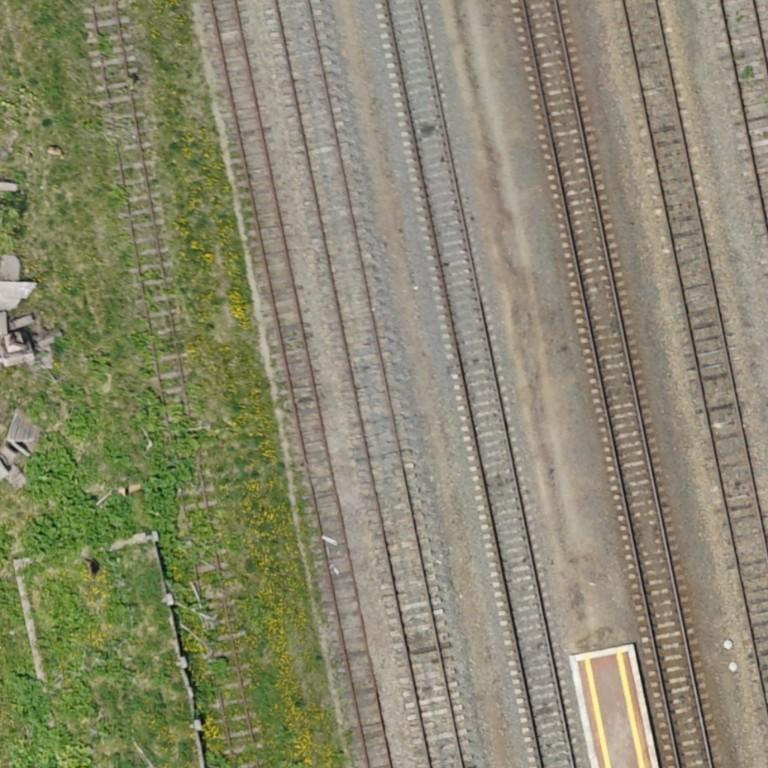hogweed: (24, 446, 138, 555), (142, 451, 195, 585), (9, 670, 82, 767), (139, 391, 166, 445), (67, 407, 97, 439)
